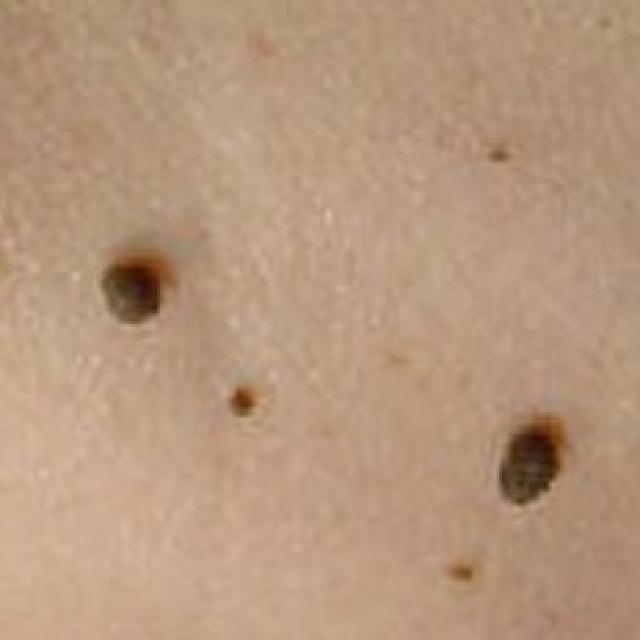wart: (494, 422, 563, 506), (94, 258, 171, 327)
